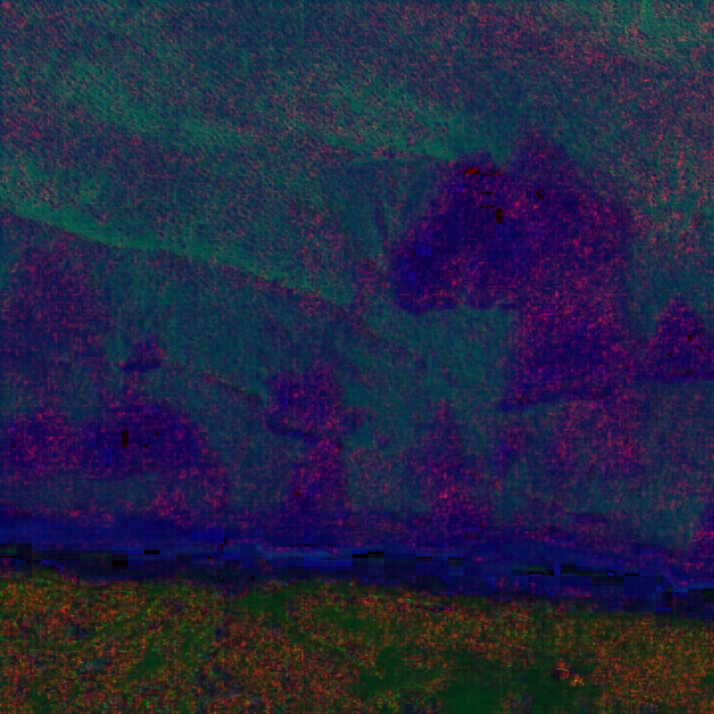rip_current: (275, 259, 557, 549)
